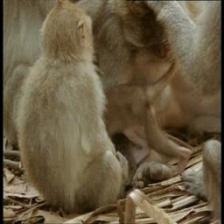monkey: (140, 31, 174, 71)
